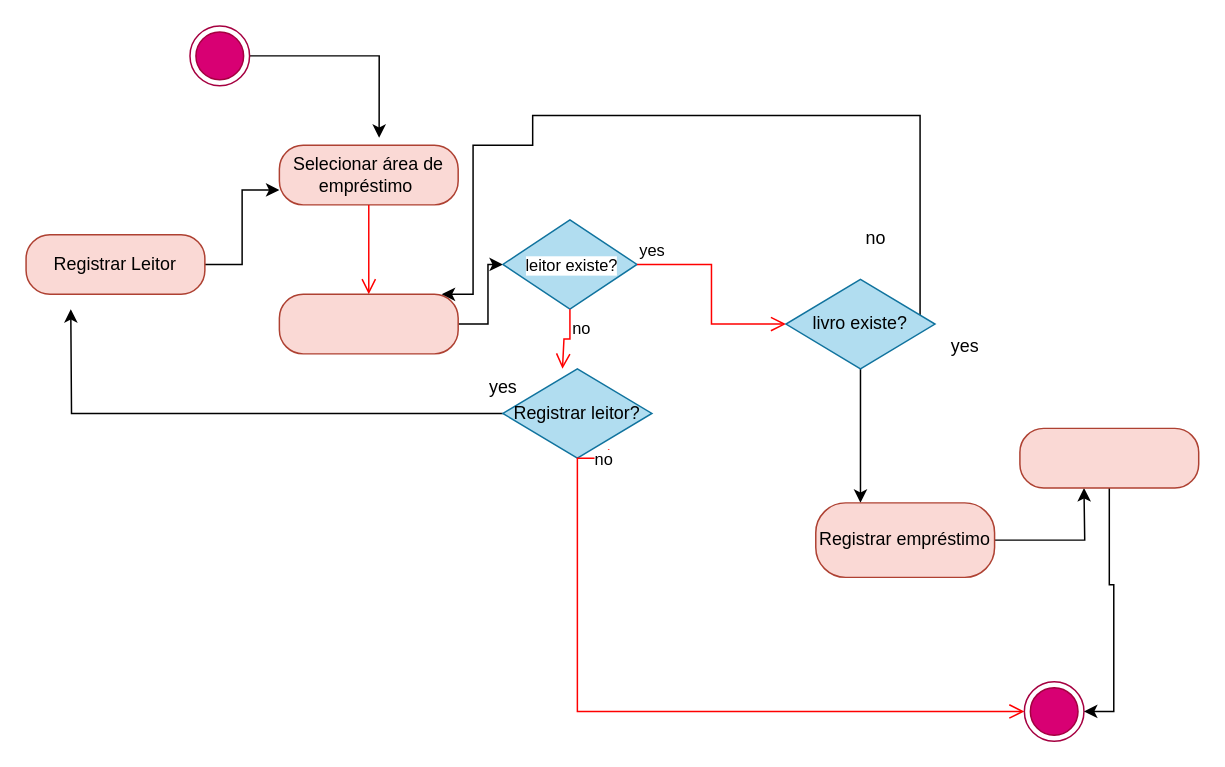
This 1225x767 diagram has some shape labels left out. Here are the shapes that lost their labels. From the top down, the centre of each, then its label:
At pixel 368 323: "Selecionar leitor e livro".
At pixel 1108 457: "Gravar histórico de empréstimo".
